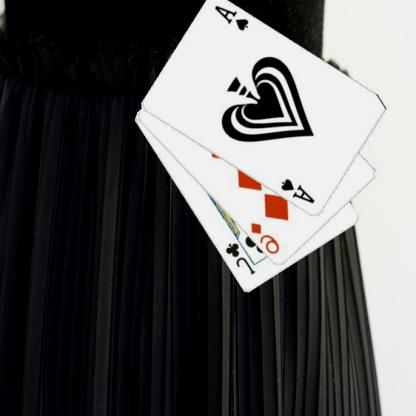9D: (250, 220, 282, 257)
AS: (214, 3, 252, 33), (280, 176, 317, 206)
JC: (224, 240, 258, 277)
